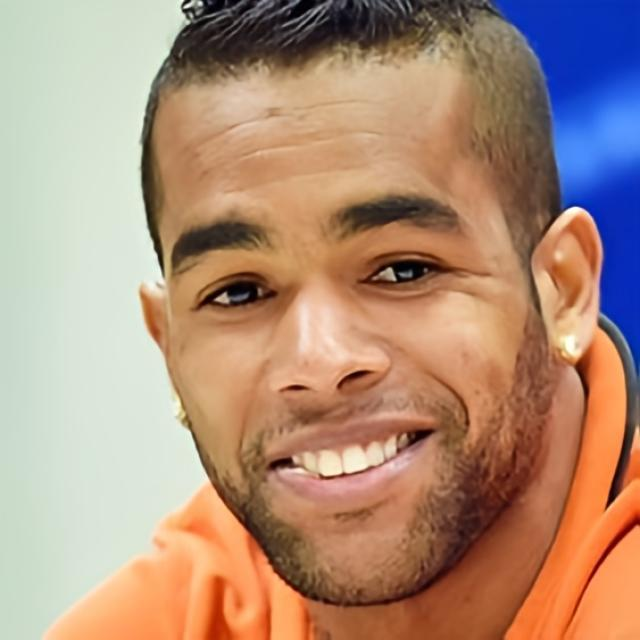content: (148, 46, 532, 607)
